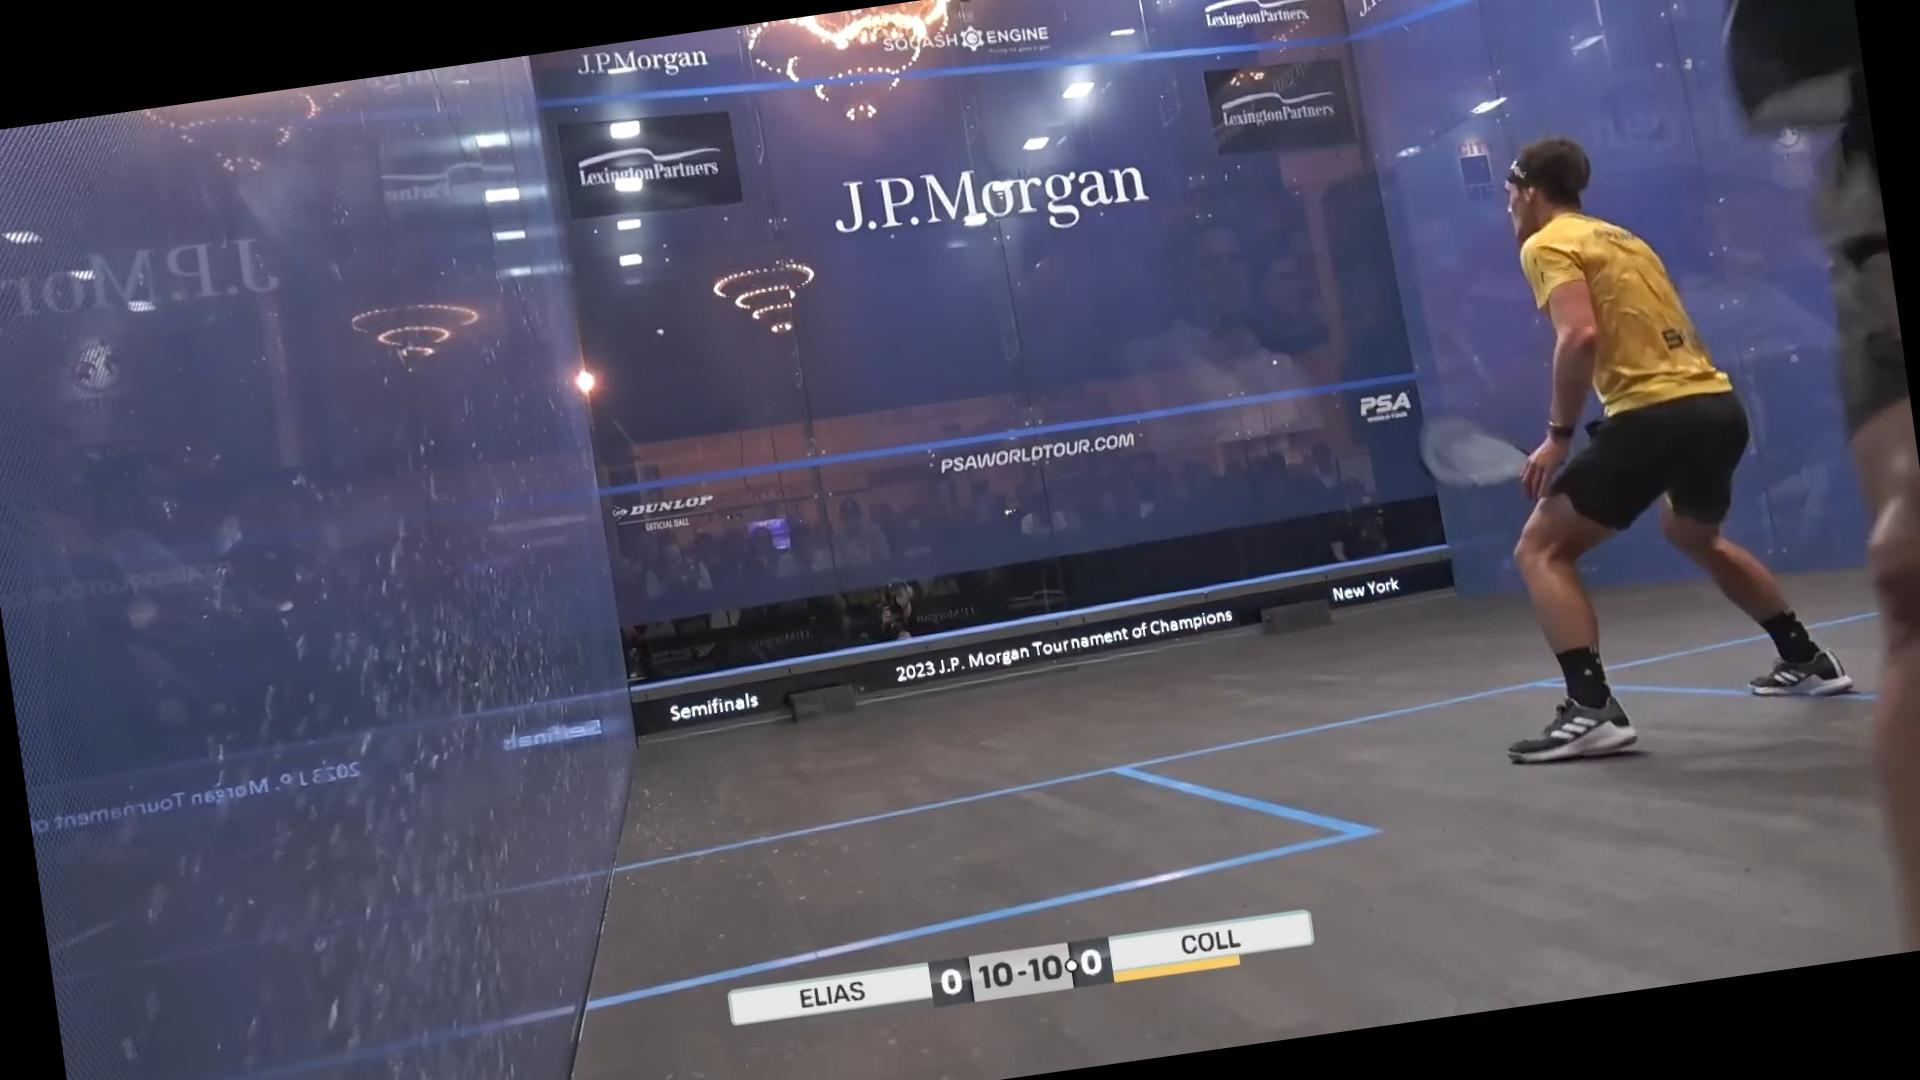Racket: (1404, 392, 1561, 504)
